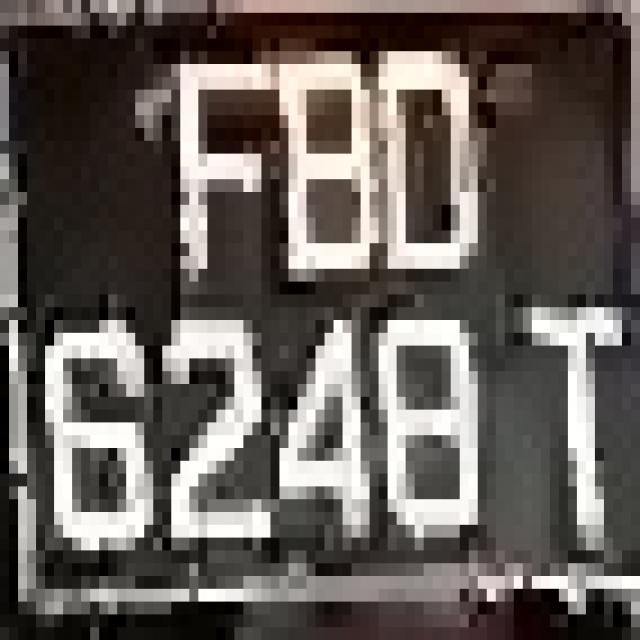2: (154, 294, 270, 564)
4: (244, 320, 378, 538)
6: (18, 294, 153, 576)
8: (378, 307, 478, 525)
B: (262, 38, 370, 294)
D: (370, 25, 496, 268)
F: (154, 64, 288, 294)
T: (496, 256, 640, 563)
